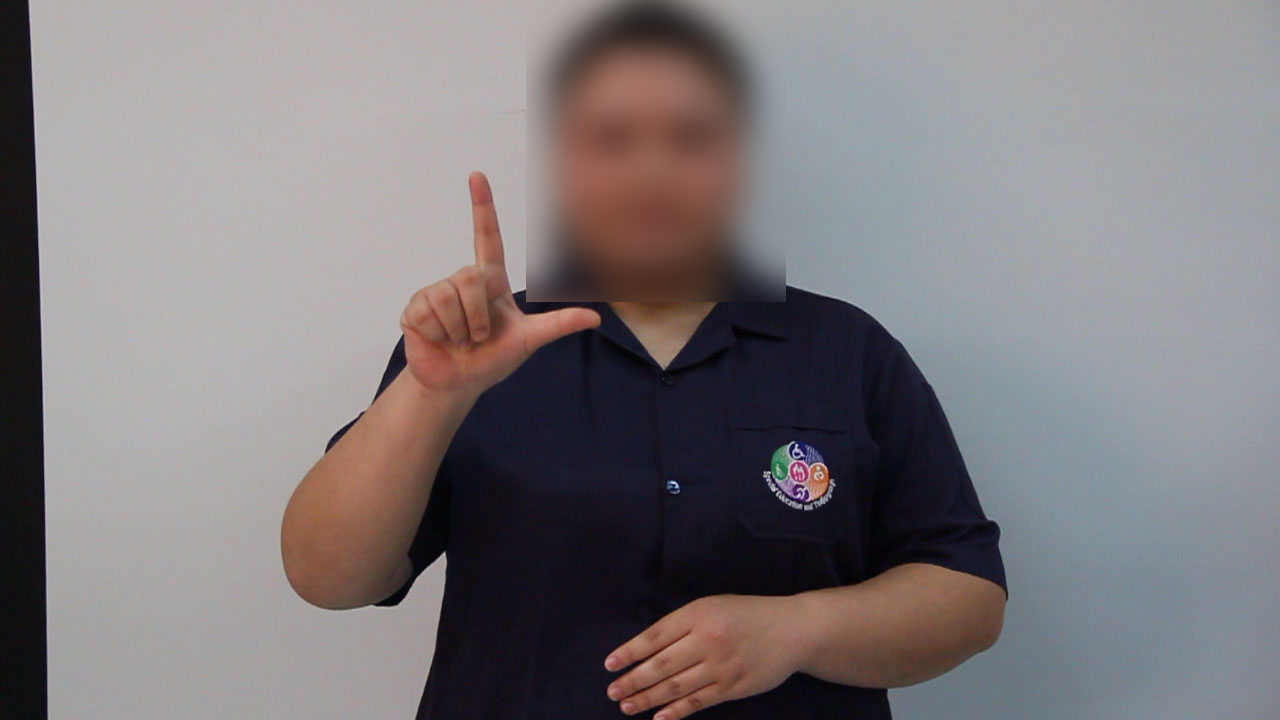lor: (396, 156, 610, 454)
